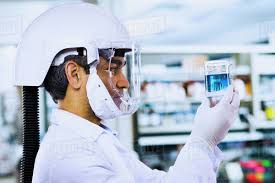Indian_Male: (97, 46, 142, 104)
